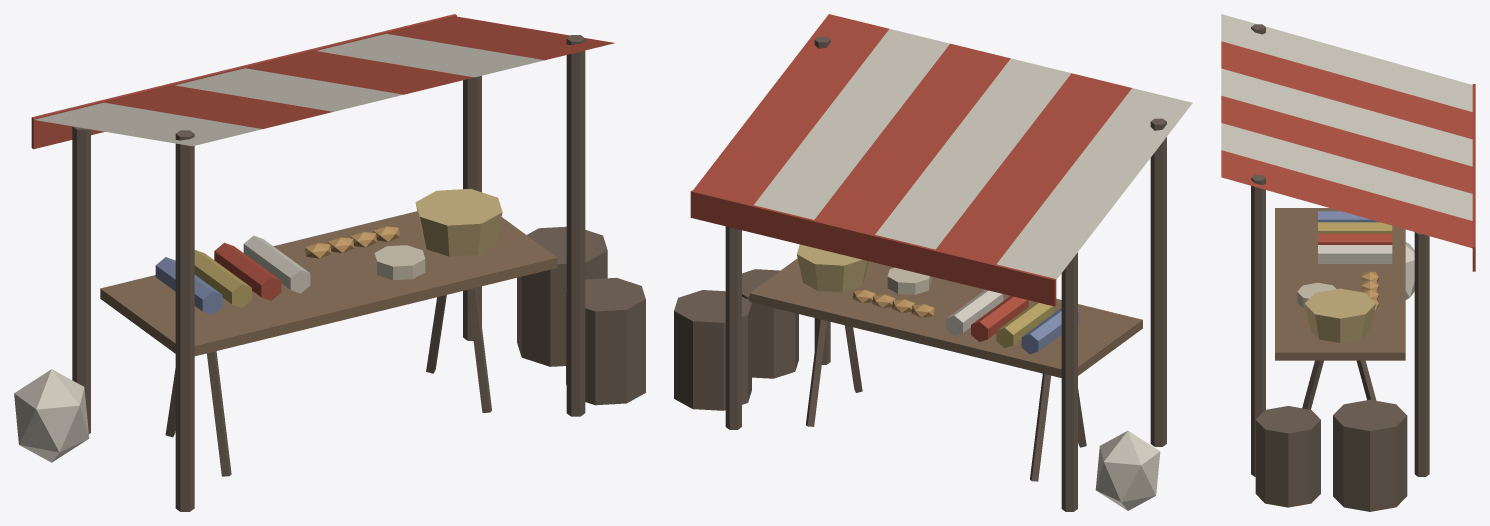
Rendered from market_stall.glb.
3 views of the same model, side by side, from view 1: azimuth 30°, elevation 25°; view 2: azimuth 150°, elevation 25°; view 3: azimuth 270°, elevation 25° (orthographic). The views are drawn at different scales.
Parts seen in each view (by area): view 1: market_stall; view 2: market_stall; view 3: market_stall.
Part boxes in pixels (x1,y1,x2,y2): market_stall: (14,14,645,511); market_stall: (674,14,1192,511); market_stall: (1221,14,1475,511).
Size of the model in its own units: 3.5 by 2.27 by 1.71.
